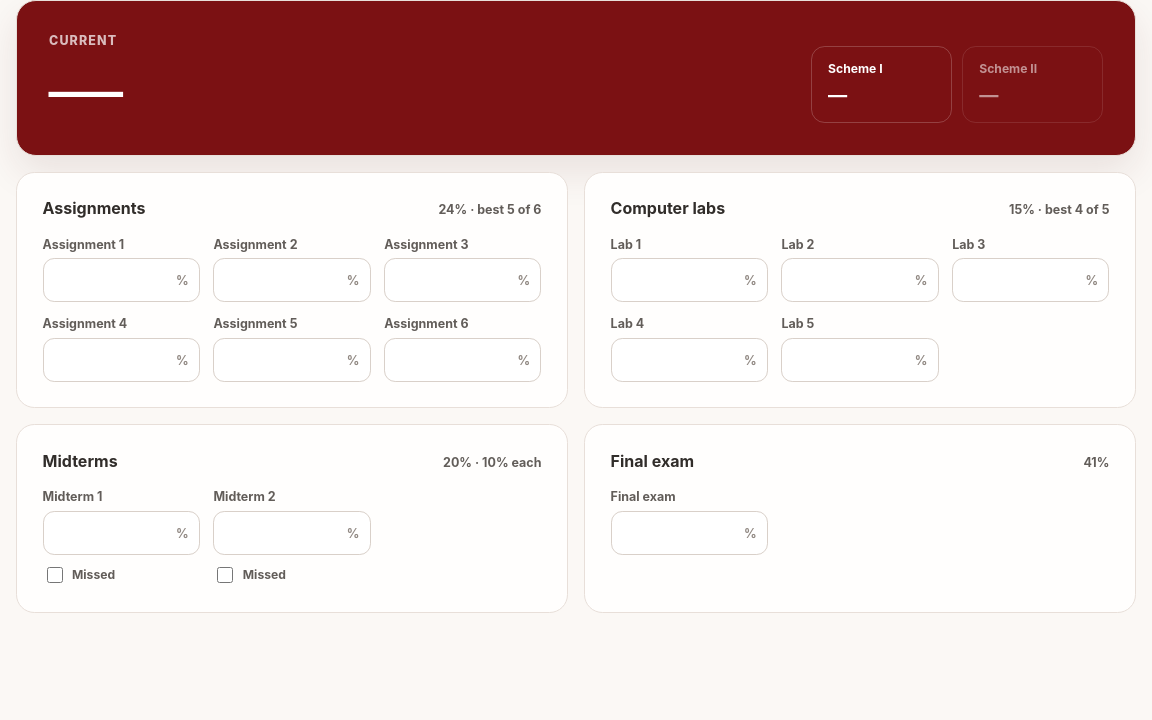
Test: GradeCalculator › calculates Scheme II after a final mark is entered
In the number field labelled "Midterm 1": (121, 533) [43, 511, 200, 555], type "50"
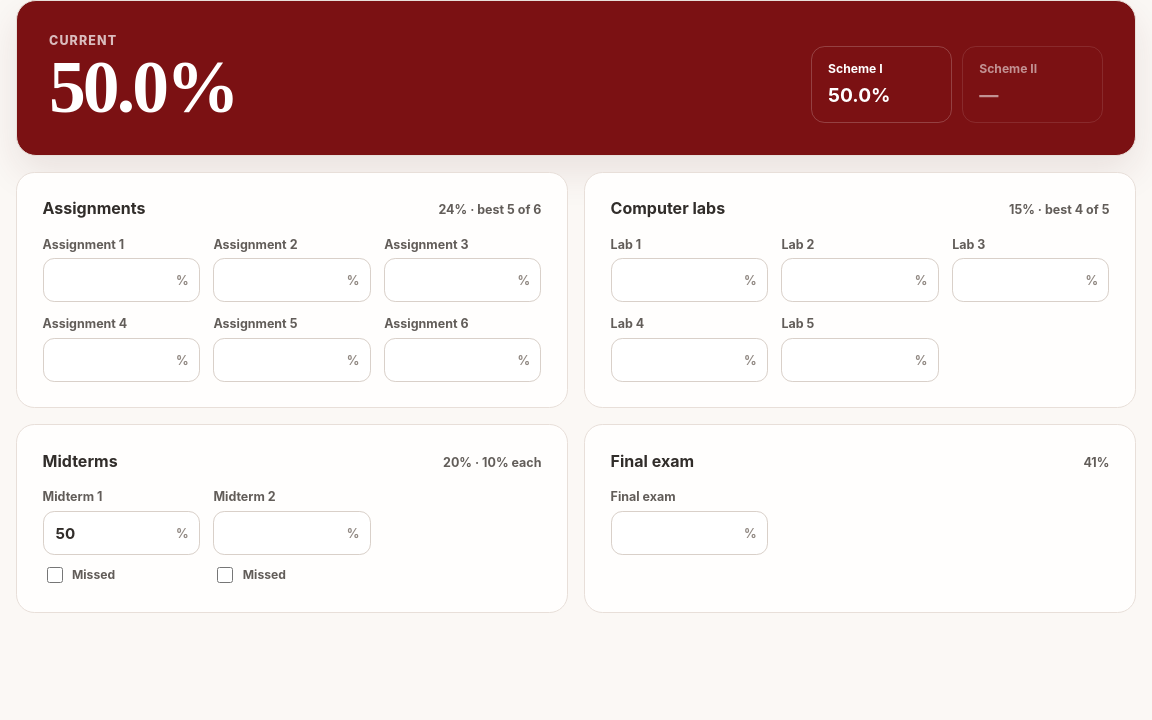
In the number field labelled "Final exam": (689, 533) [611, 511, 768, 555], type "80"
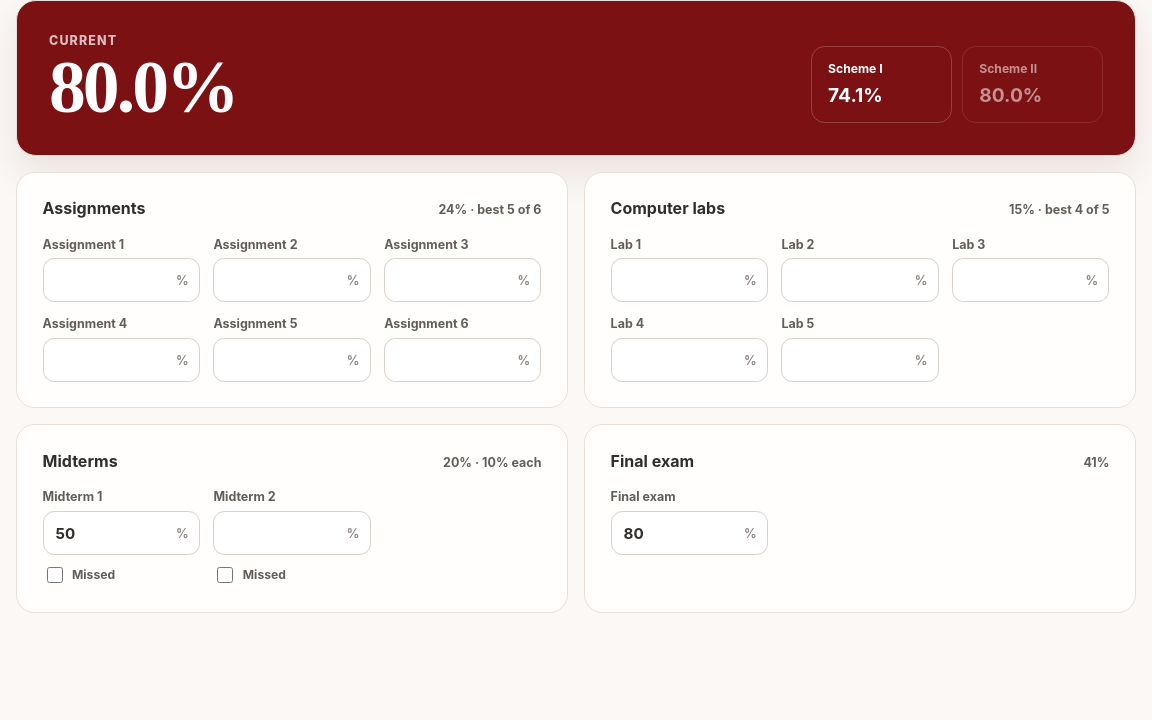
Expected: the element with test id "scheme-two" shows "80.0%", [979, 83, 1042, 107]
Expected: the text with test id "current-grade" reads "80.0%", [49, 46, 237, 128]
